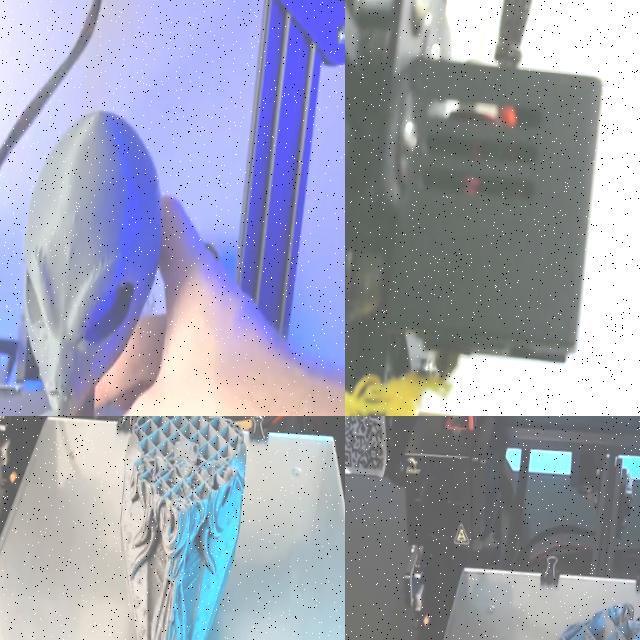spaghetti: (345, 372, 449, 416)
